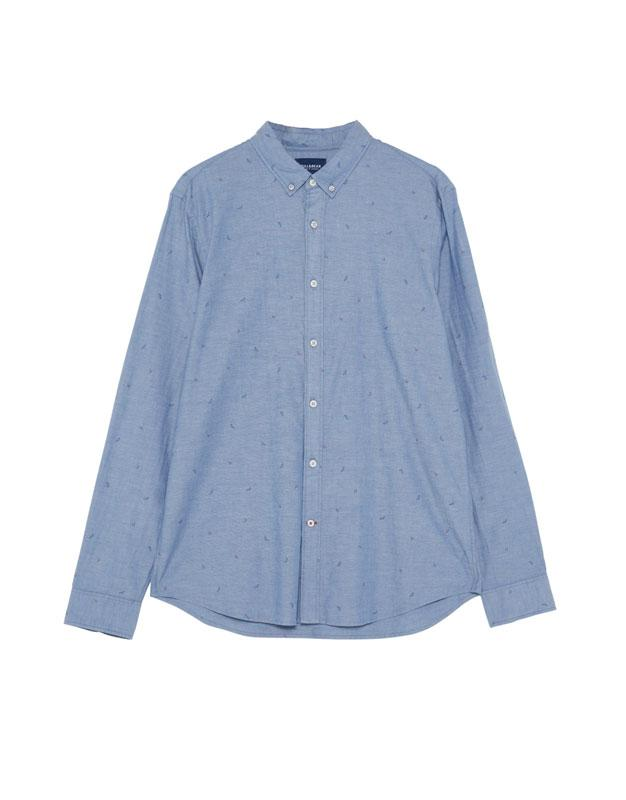teeshirt: (62, 126, 562, 667)
